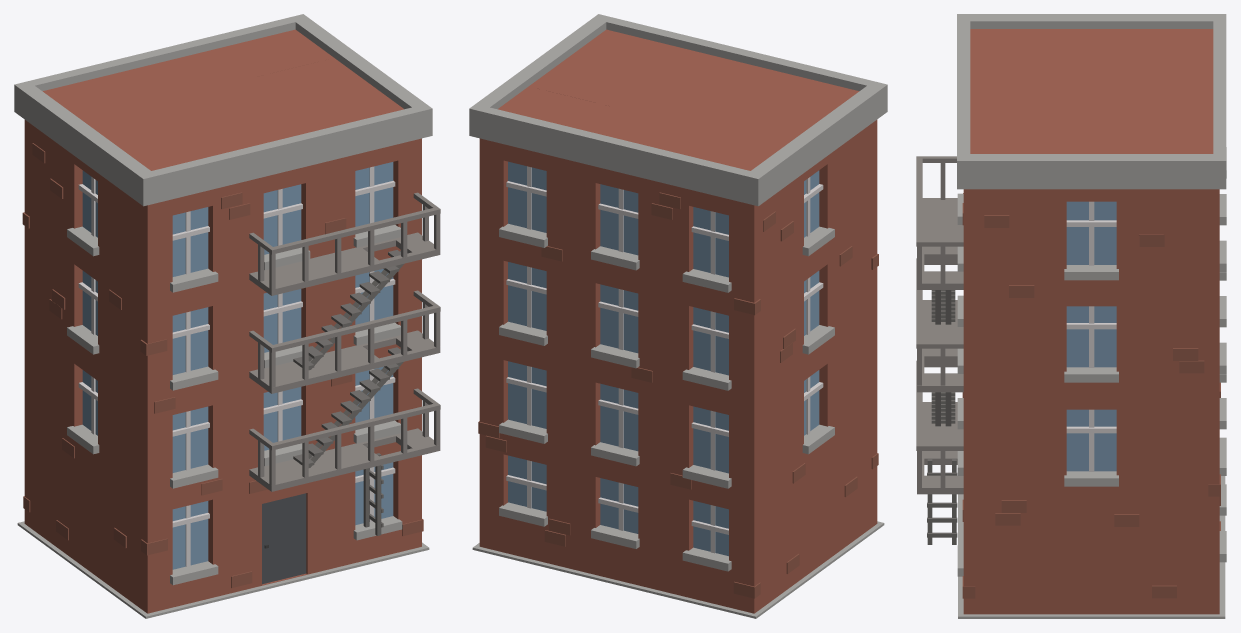
The model's file is Multistory_09.glb.
The picture shows the model from 3 angles, left to right: view 1: azimuth 30°, elevation 25°; view 2: azimuth 150°, elevation 25°; view 3: azimuth 270°, elevation 25°; orthographic projection. The views are drawn at different scales.
Visible parts, largest first — view 1: House_21; view 2: House_21; view 3: House_21.
Part boxes in pixels (<box>): House_21: <box>14,14,440,618</box>; House_21: <box>469,14,887,618</box>; House_21: <box>916,14,1226,618</box>.
Size of the model in its own units: 7.14 by 10.41 by 6.37.
Materials: 1 (1 with a texture image).
